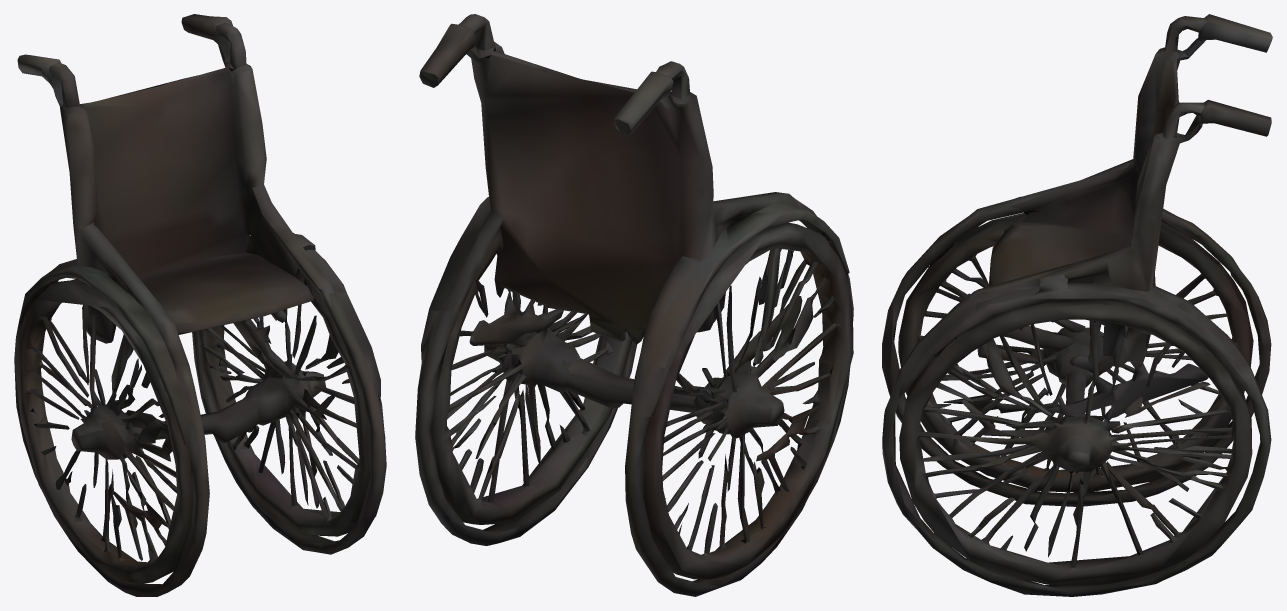
The model's file is worn-iron-wheelchair-v001.glb.
3 renders of one model, left to right at view 1: azimuth 30°, elevation 25°; view 2: azimuth 150°, elevation 25°; view 3: azimuth 270°, elevation 25°, orthographic. The views are drawn at different scales.
Parts seen in each view (by area): view 1: worn-iron-wheelchair; view 2: worn-iron-wheelchair; view 3: worn-iron-wheelchair.
Boxes of the visible parts, x1,y1,x2,y2 form: worn-iron-wheelchair: [14, 14, 386, 596]; worn-iron-wheelchair: [415, 14, 853, 596]; worn-iron-wheelchair: [882, 14, 1272, 596].
Size of the model in its own units: 0.5834 by 1.08 by 0.7735.
1 material, 1 textured.
